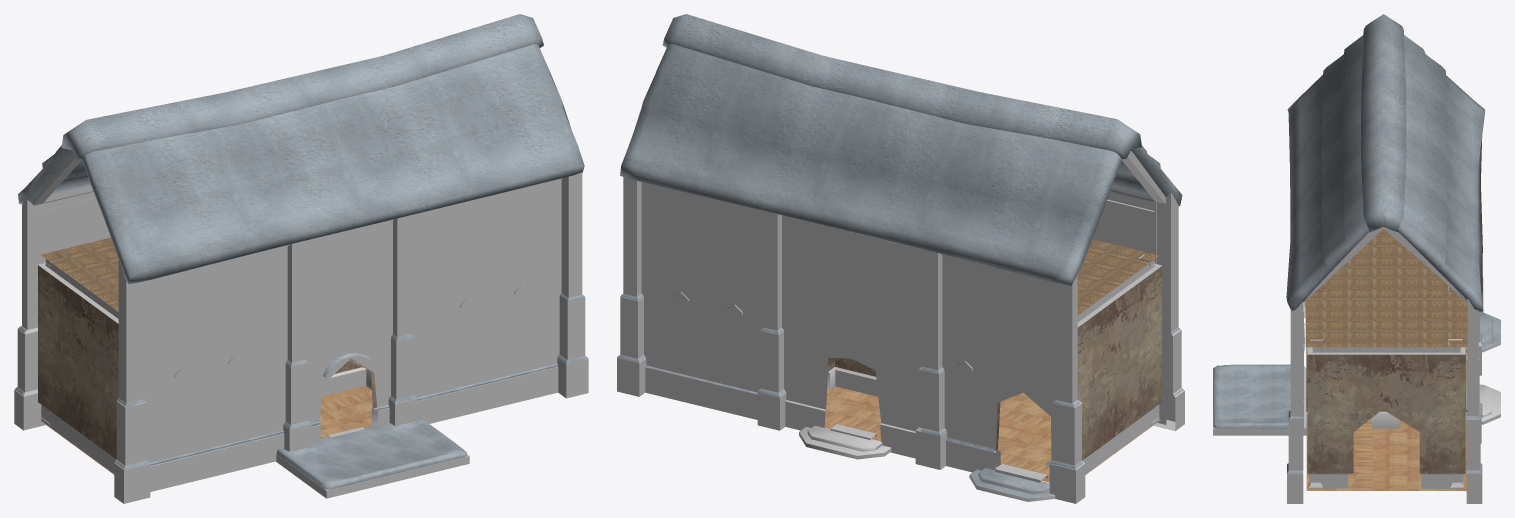
File: guodaofangzi_no.FBX
3 views of the same model, side by side, from view 1: azimuth 30°, elevation 25°; view 2: azimuth 150°, elevation 25°; view 3: azimuth 270°, elevation 25° (orthographic). The views are drawn at different scales.
Visible parts, largest first — view 1: guodaofangzi_xue, guodaofangzi_qiang2, guodaofangzi_qing1, guodaofangzi_zhuzi, guodaofangzi_neiqiang2, guodaofangzi_neiqiang1, guodaofangzi_ding, guodaofangzi_dimian, guodaofangzi_taizi, guodaofangzi_yan; view 2: guodaofangzi_xue, guodaofangzi_qiang2, guodaofangzi_qing1, guodaofangzi_zhuzi, guodaofangzi_neiqiang2, guodaofangzi_dimian, guodaofangzi_neiqiang1, guodaofangzi_taijie, guodaofangzi_ding, guodaofangzi_yan; view 3: guodaofangzi_xue, guodaofangzi_neiqiang2, guodaofangzi_ding, guodaofangzi_zhuzi, guodaofangzi_dimian, guodaofangzi_neiqiang1, guodaofangzi_yan, guodaofangzi_taijie, guodaofangzi_taizi.
Boxes of the visible parts, box(x1,y1,x2,y2) form: guodaofangzi_xue: box(15, 14, 588, 489); guodaofangzi_qiang2: box(143, 257, 561, 491); guodaofangzi_qing1: box(43, 179, 561, 358); guodaofangzi_zhuzi: box(14, 172, 588, 503); guodaofangzi_neiqiang2: box(38, 265, 376, 459); guodaofangzi_neiqiang1: box(38, 253, 377, 473); guodaofangzi_ding: box(41, 237, 118, 311); guodaofangzi_dimian: box(39, 386, 377, 474); guodaofangzi_taizi: box(276, 454, 469, 498); guodaofangzi_yan: box(32, 152, 562, 262); guodaofangzi_xue: box(617, 14, 1183, 498); guodaofangzi_qiang2: box(641, 258, 1166, 472); guodaofangzi_qing1: box(641, 182, 1162, 358); guodaofangzi_zhuzi: box(617, 177, 1184, 503); guodaofangzi_neiqiang2: box(828, 266, 1161, 460); guodaofangzi_dimian: box(824, 386, 1160, 482); guodaofangzi_neiqiang1: box(824, 254, 1161, 474); guodaofangzi_taijie: box(799, 424, 1055, 501); guodaofangzi_ding: box(1077, 239, 1159, 315); guodaofangzi_yan: box(759, 151, 1165, 258); guodaofangzi_xue: box(1213, 14, 1500, 474); guodaofangzi_neiqiang2: box(1306, 347, 1465, 473); guodaofangzi_ding: box(1305, 229, 1467, 347); guodaofangzi_zhuzi: box(1287, 277, 1483, 503); guodaofangzi_dimian: box(1306, 347, 1466, 490); guodaofangzi_neiqiang1: box(1306, 286, 1465, 488); guodaofangzi_yan: box(1303, 227, 1467, 311); guodaofangzi_taijie: box(1304, 319, 1500, 424); guodaofangzi_taizi: box(1213, 367, 1306, 435).
Bounding box in the file's own units: 32.64 × 22.86 × 19.92.
